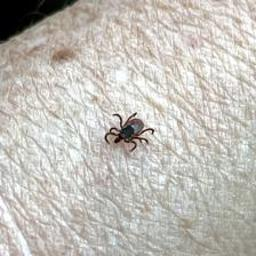Ixodes scapularis: (104, 112, 157, 153)
